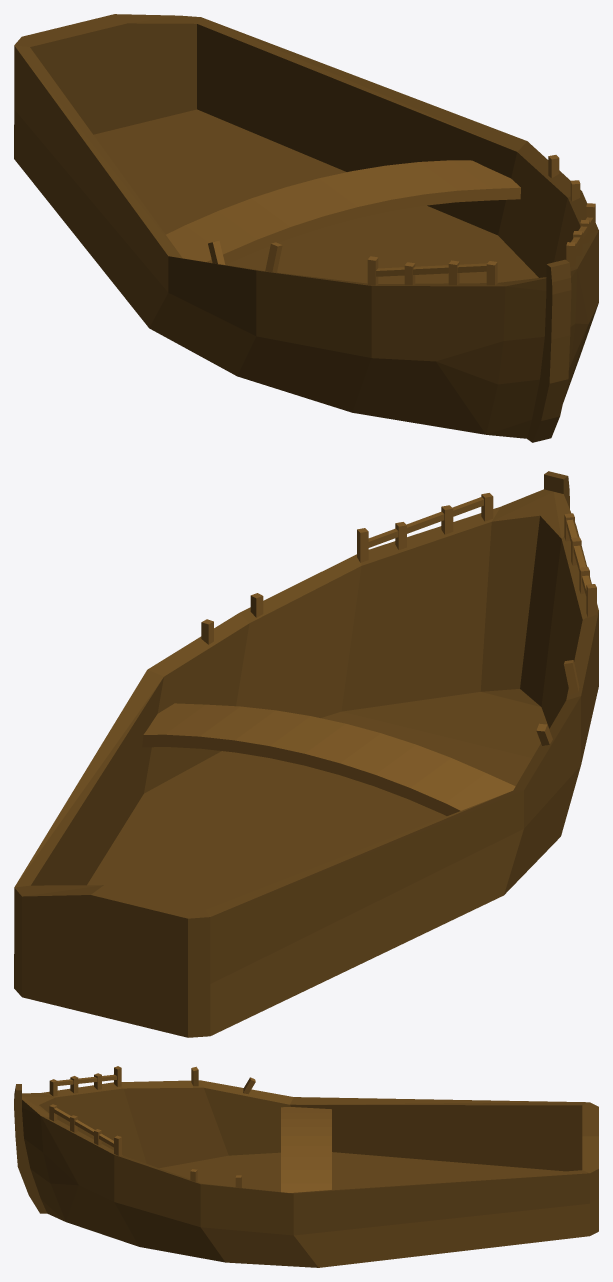
Rendered from SM_Boat.fbx.
3 views of the same model, one above another, from view 1: azimuth 30°, elevation 25°; view 2: azimuth 150°, elevation 25°; view 3: azimuth 270°, elevation 25° (orthographic). The views are drawn at different scales.
Visible parts, largest first — view 1: polySurface25; view 2: polySurface25; view 3: polySurface25.
Part boxes in pixels (bbox=[...]): polySurface25: bbox=[14, 14, 598, 442]; polySurface25: bbox=[14, 471, 598, 1037]; polySurface25: bbox=[14, 1066, 598, 1267].
Bounding box in the file's own units: 530 × 266 × 1143.
Materials: 1 (1 with a texture image).
